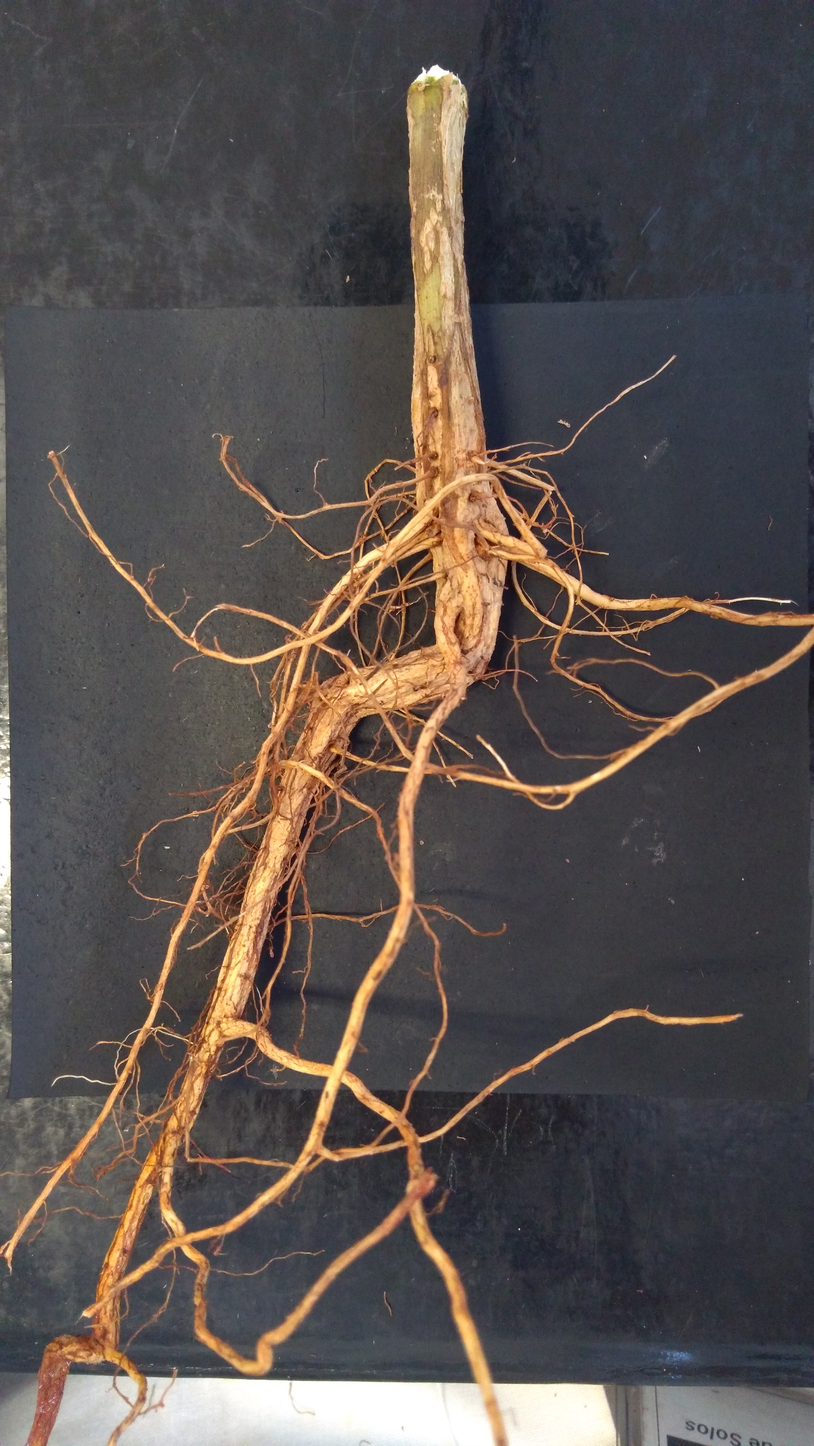nodule: (406, 1173, 438, 1198)
